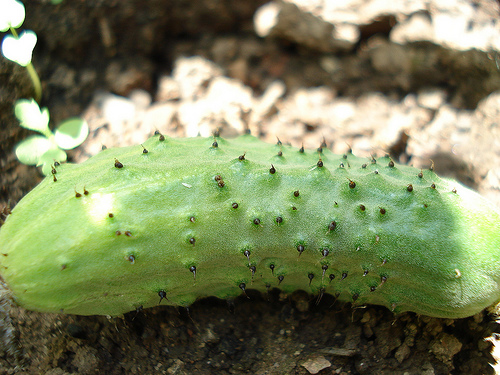cucumber: (0, 135, 499, 320)
